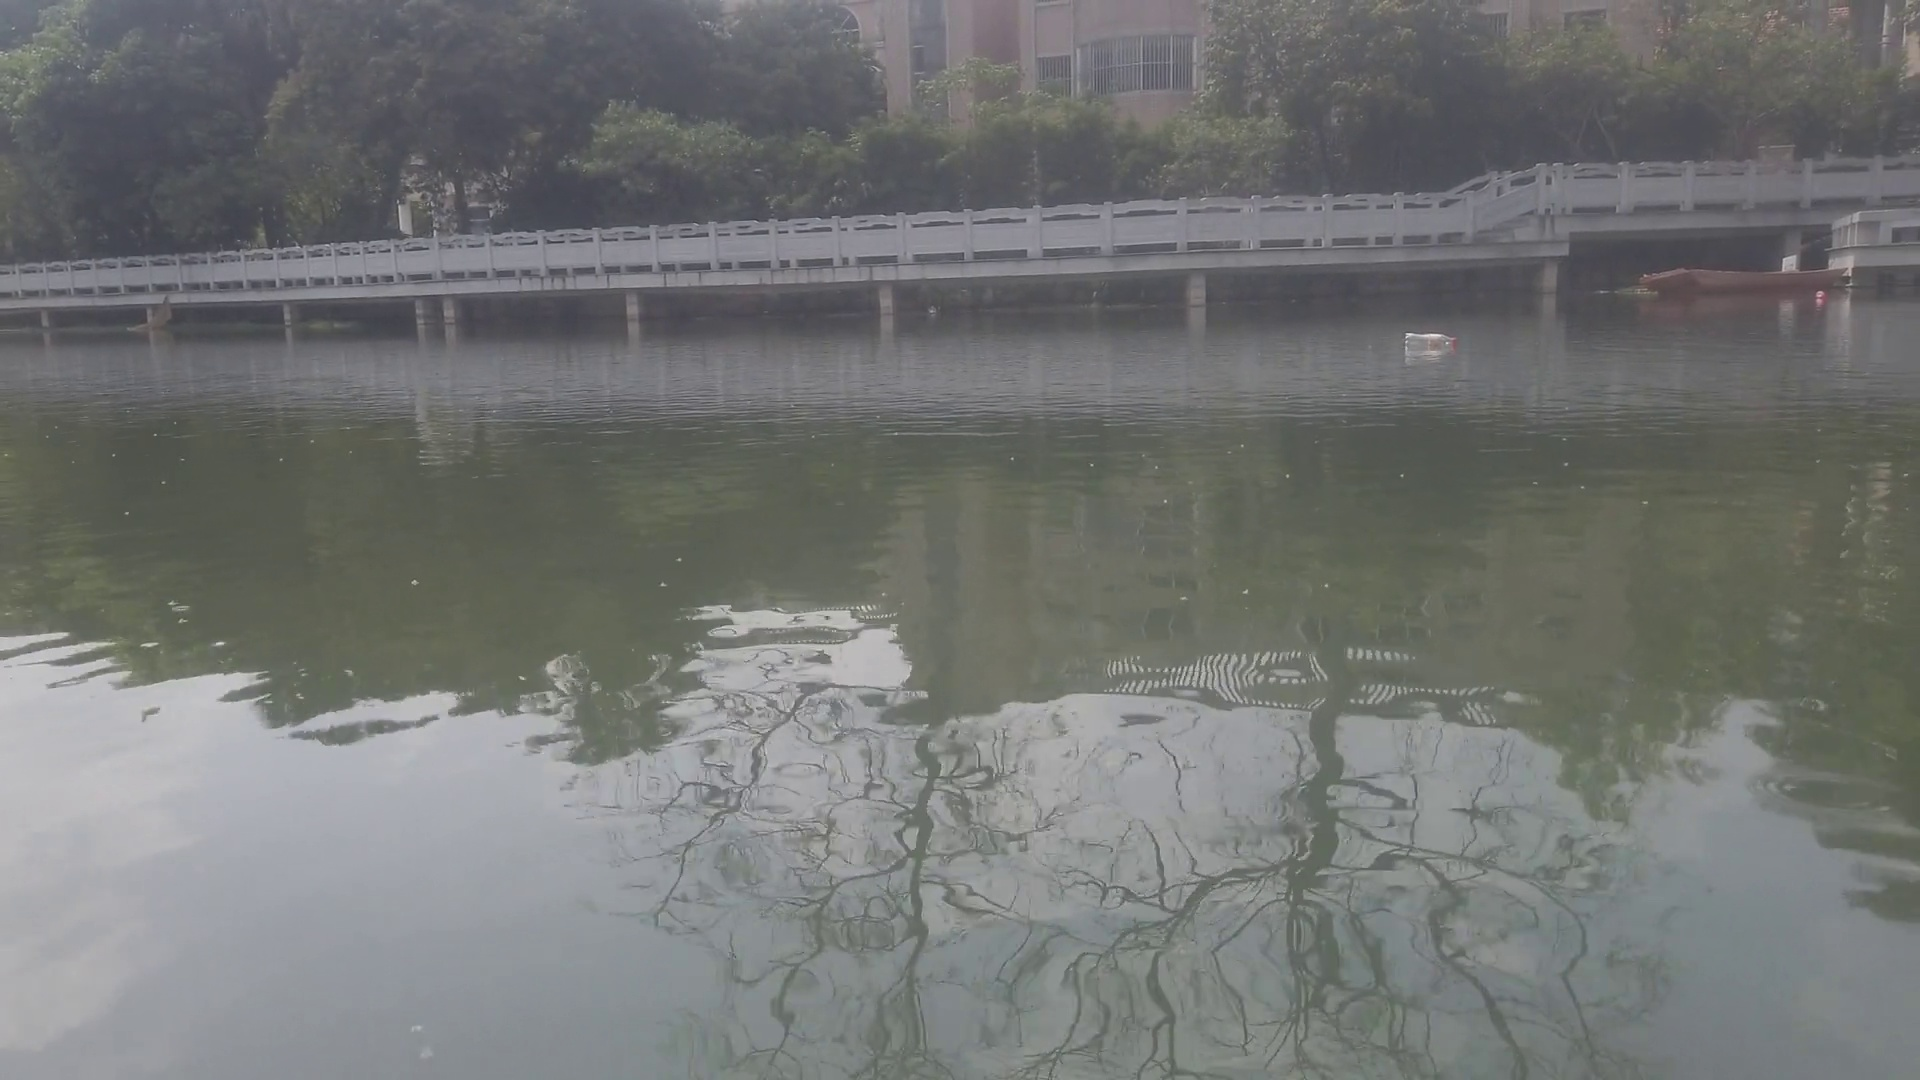bottle: (1400, 328, 1458, 349), (1812, 287, 1826, 302)
